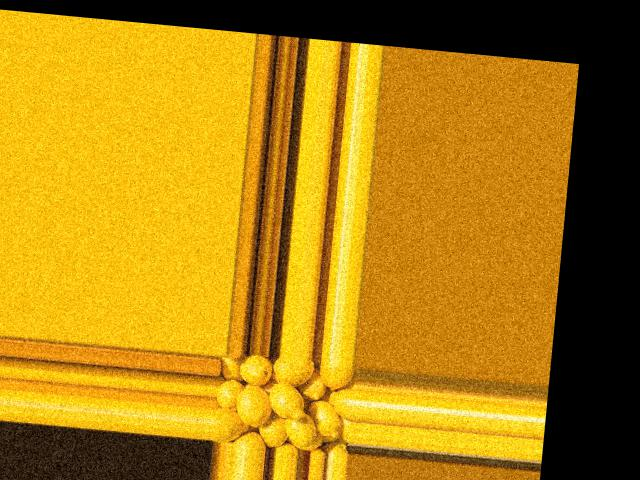lemon: (285, 413, 321, 450)
